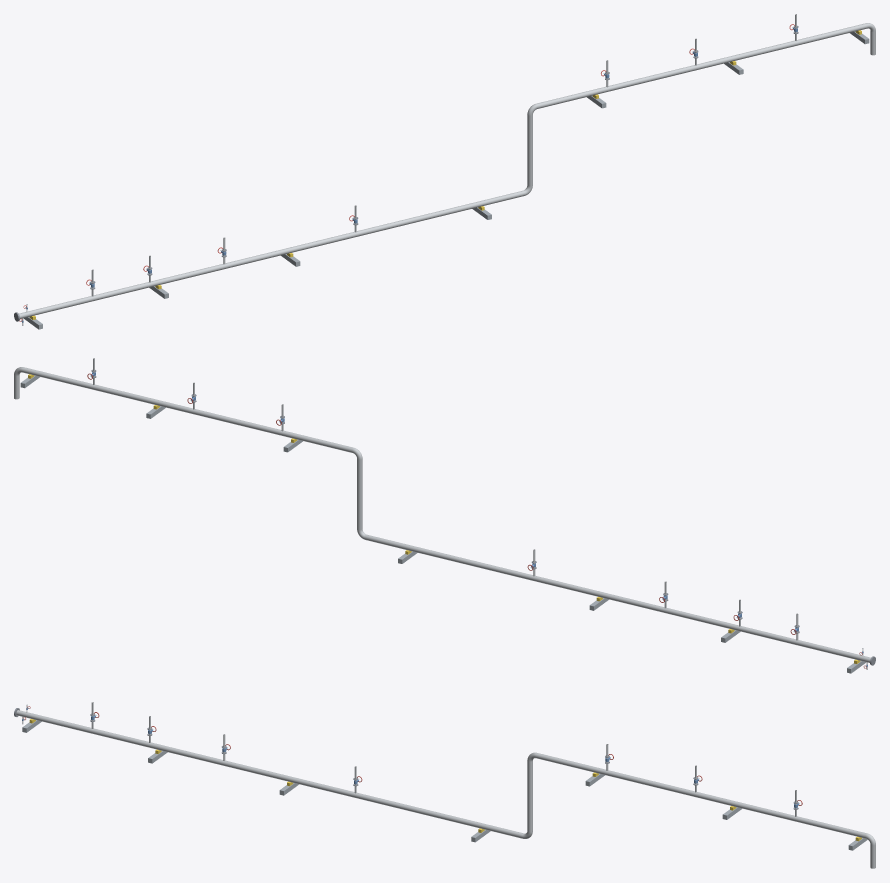
The model's file is CWS-00001-view.glb.
3 renders of one model, top to bottom at view 1: azimuth 30°, elevation 25°; view 2: azimuth 150°, elevation 25°; view 3: azimuth 330°, elevation 25°, orthographic.
Visible parts, largest first — view 1: pipe, steel; view 2: pipe, steel; view 3: pipe, steel.
Boxes of the visible parts, x1,y1,x2,y2 form: pipe: [19, 14, 875, 325]; steel: [24, 27, 869, 329]; pipe: [14, 358, 870, 669]; steel: [20, 375, 865, 673]; pipe: [16, 702, 875, 868]; steel: [22, 707, 867, 850].
Bounding box in the file's own units: 30.06 × 4.09 × 1.
